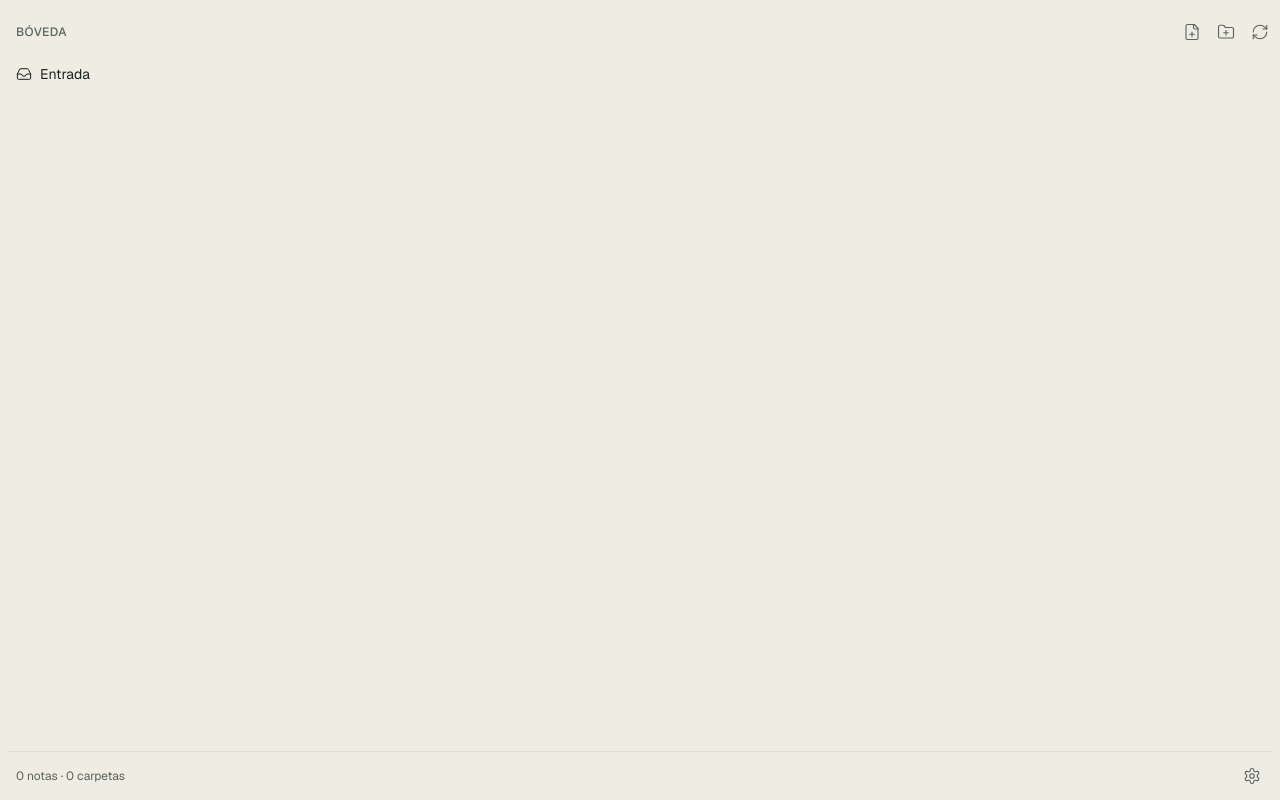
creación de carpetas con nombre obligatorio › no crea nada si el nombre está vacío
Click the button with test id "new-folder-btn": point(1226, 32) x1=1210 y1=16 x2=1242 y2=48
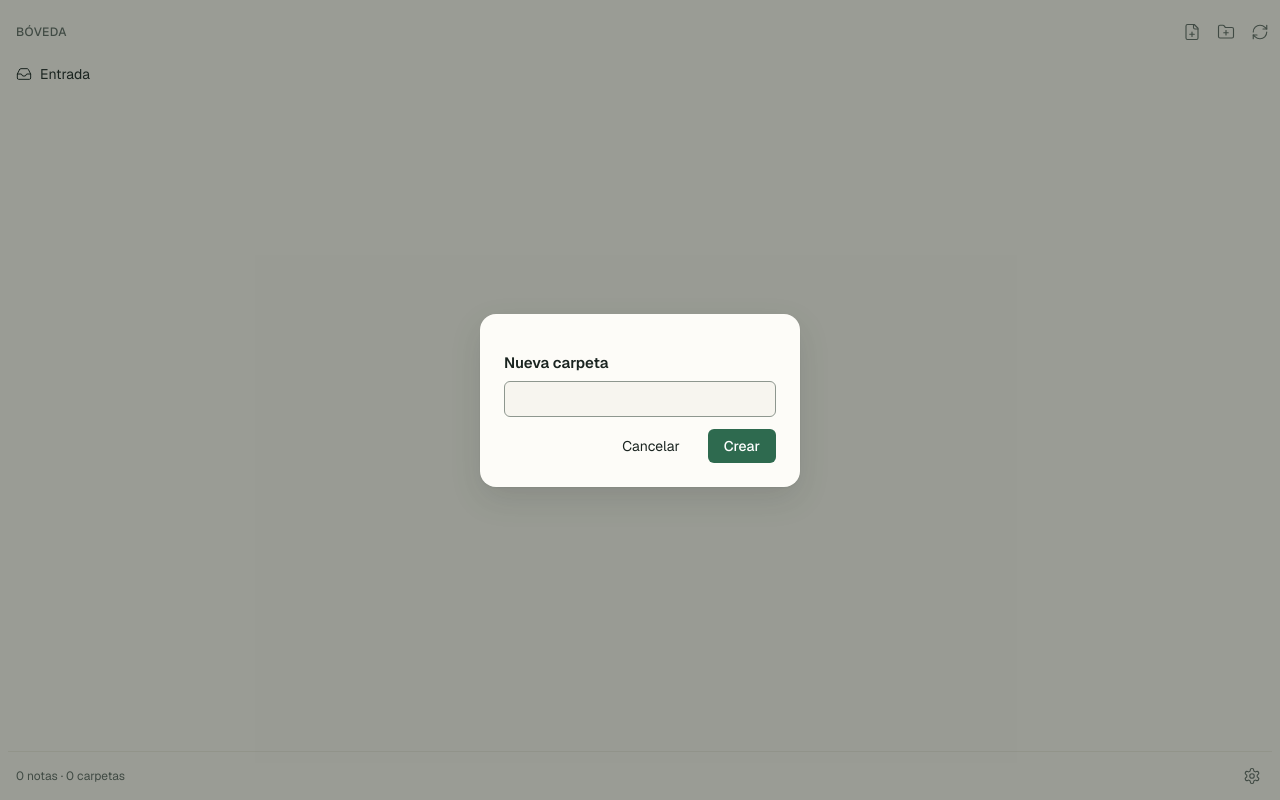
Click the button with test id "name-dialog-submit": point(742, 446) x1=708 y1=428 x2=776 y2=462
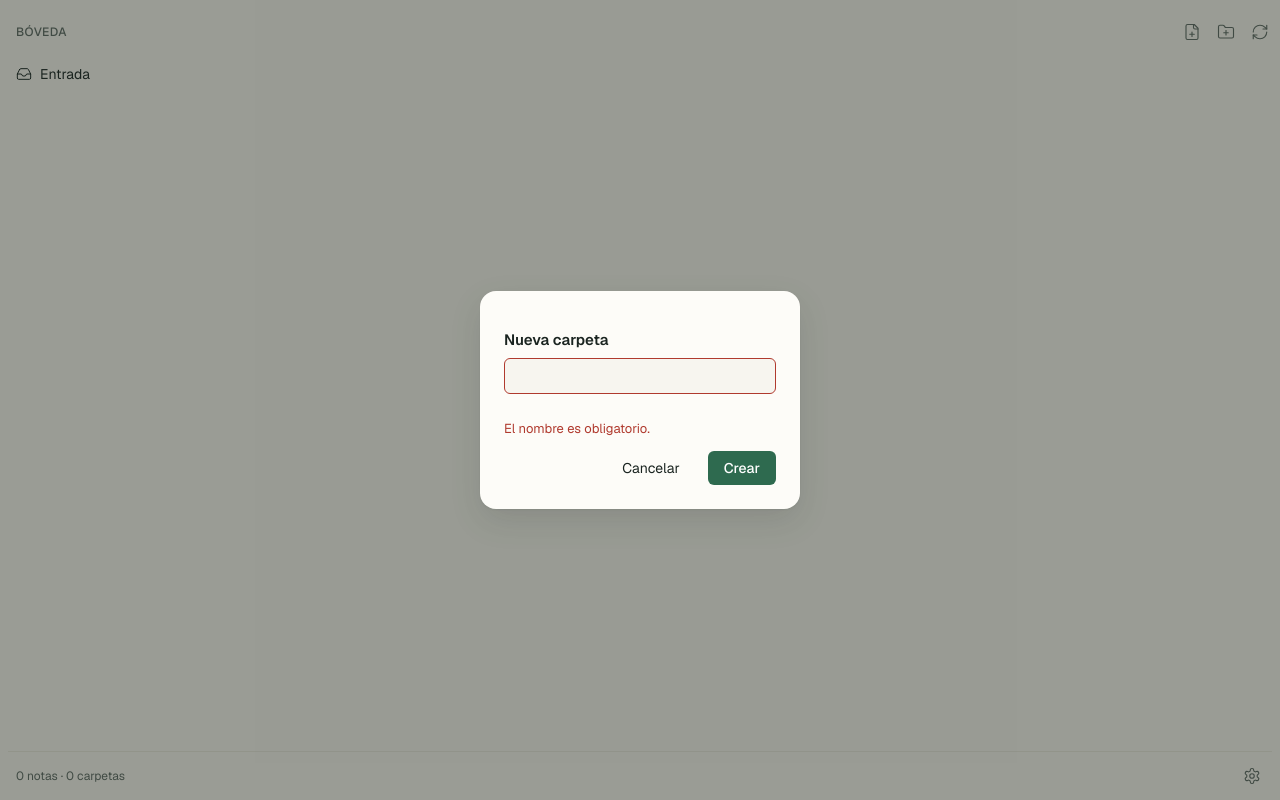
Check: the message "El nombre es obligatorio." is shown, box x1=504 y1=420 x2=650 y2=437
